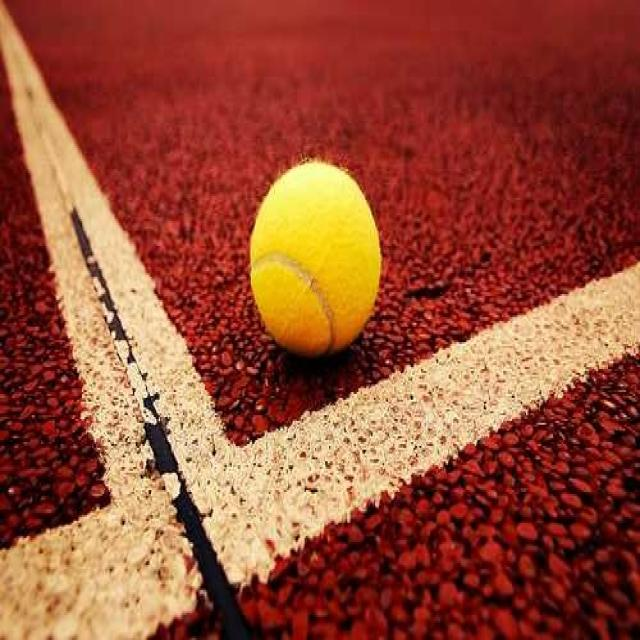Tennis_Ball: (246, 152, 379, 365)
